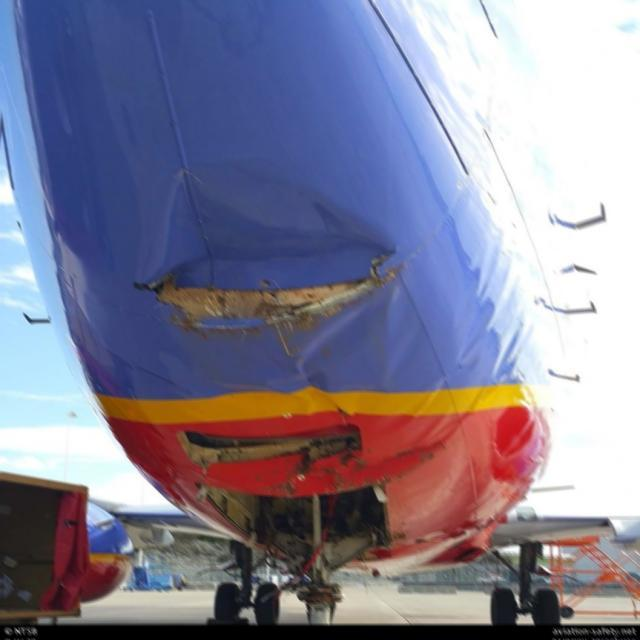dent: (146, 165, 394, 285), (301, 305, 379, 374)
